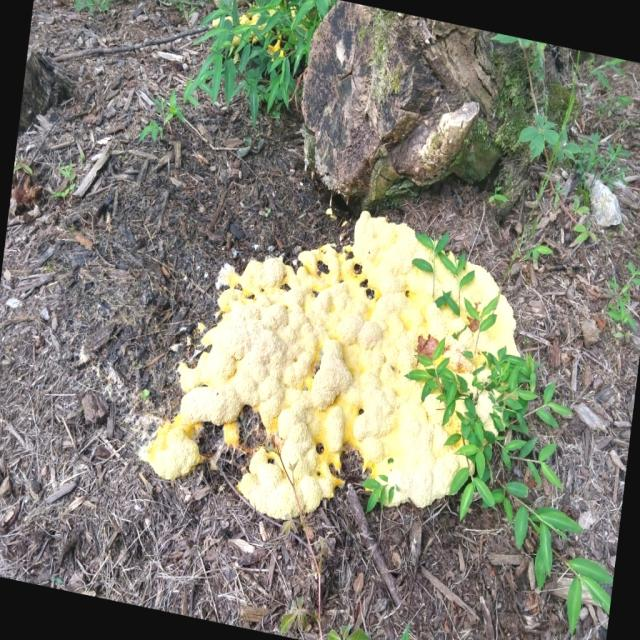Dog_vomit_slime_mold: (145, 186, 547, 544)
